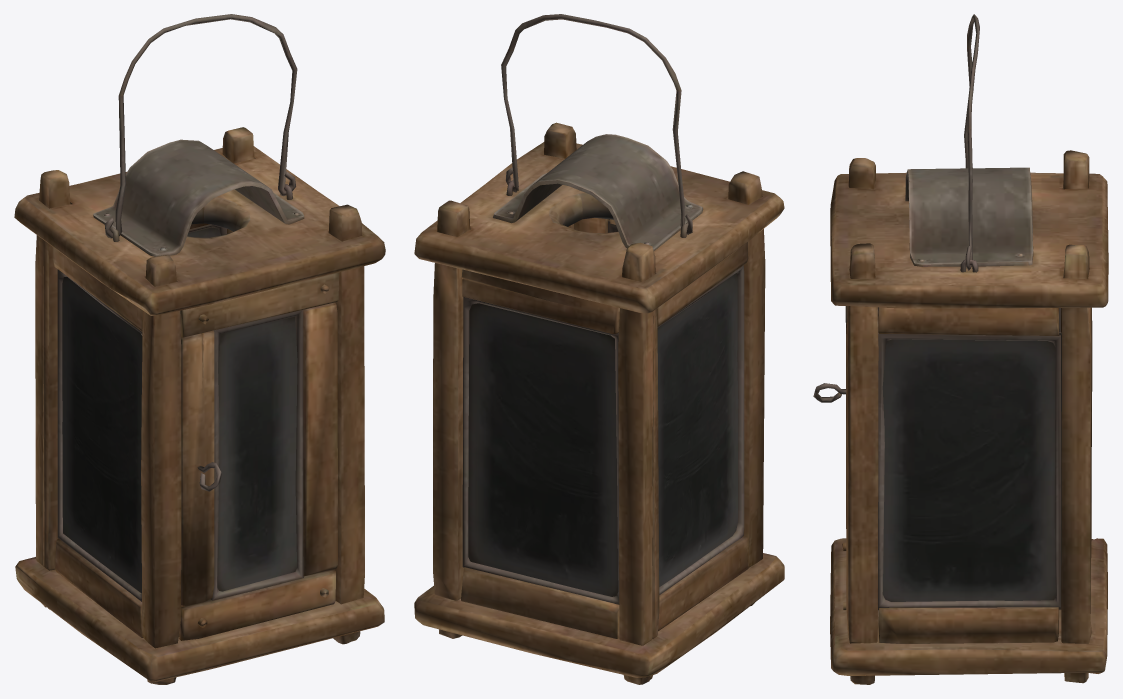
The model's file is lantern.glb.
The picture shows the model from 3 angles, left to right: view 1: azimuth 30°, elevation 25°; view 2: azimuth 150°, elevation 25°; view 3: azimuth 270°, elevation 25°; orthographic projection.
Parts seen in each view (by area): view 1: wooden_lantern_01; view 2: wooden_lantern_01; view 3: wooden_lantern_01.
Part boxes in pixels (<box>): wooden_lantern_01: <box>14,14,385,684</box>; wooden_lantern_01: <box>414,14,784,684</box>; wooden_lantern_01: <box>813,14,1108,684</box>.
Bounding box in the file's own units: 0.221 × 0.5296 × 0.2341.
Materials: 2 (2 with a texture image).
